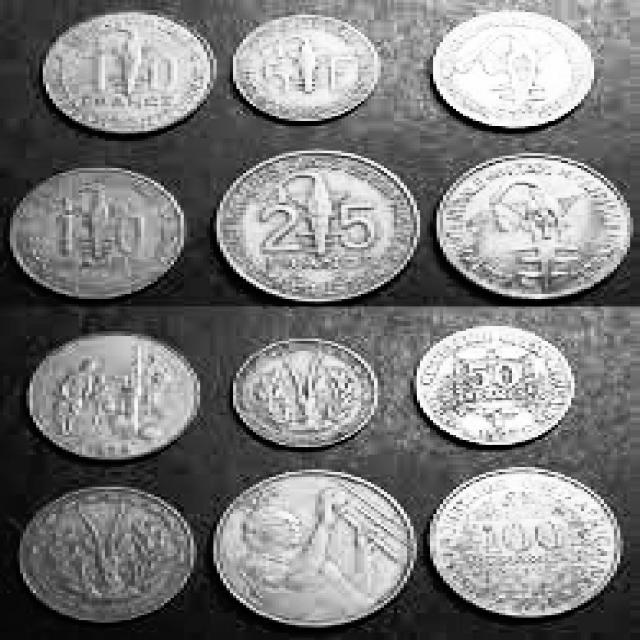derem: (236, 17, 379, 120), (236, 341, 375, 445)
fukk: (417, 327, 571, 445), (437, 14, 589, 126)
juroom derem: (214, 471, 417, 627), (216, 151, 418, 303)
niaari derem: (20, 487, 193, 623), (12, 169, 184, 299), (43, 10, 216, 135), (28, 334, 199, 460)
niaari fukk: (432, 467, 618, 614), (440, 157, 628, 296)
